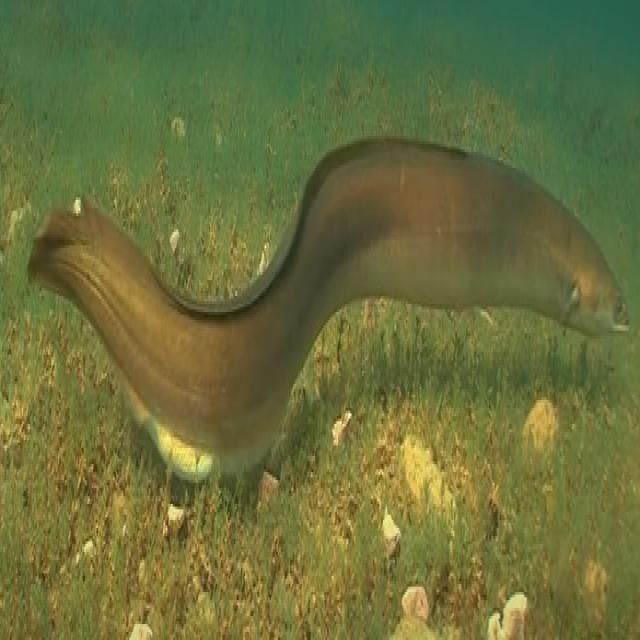Freshwater-Eel: (0, 120, 640, 480)
